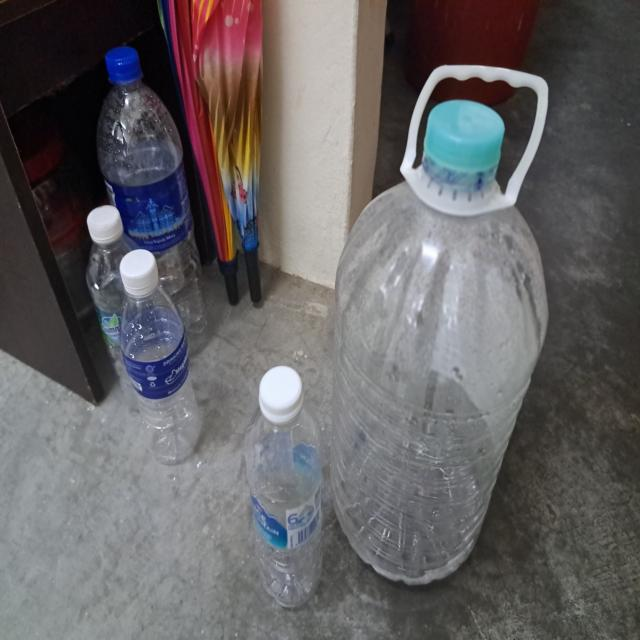plastic bottle: (328, 169, 552, 581), (100, 90, 210, 332), (243, 408, 327, 604), (122, 284, 200, 460), (82, 244, 141, 406)
plastic bottle cap: (421, 100, 508, 198), (260, 364, 306, 421), (117, 249, 160, 295), (86, 204, 126, 244), (106, 46, 140, 80)
